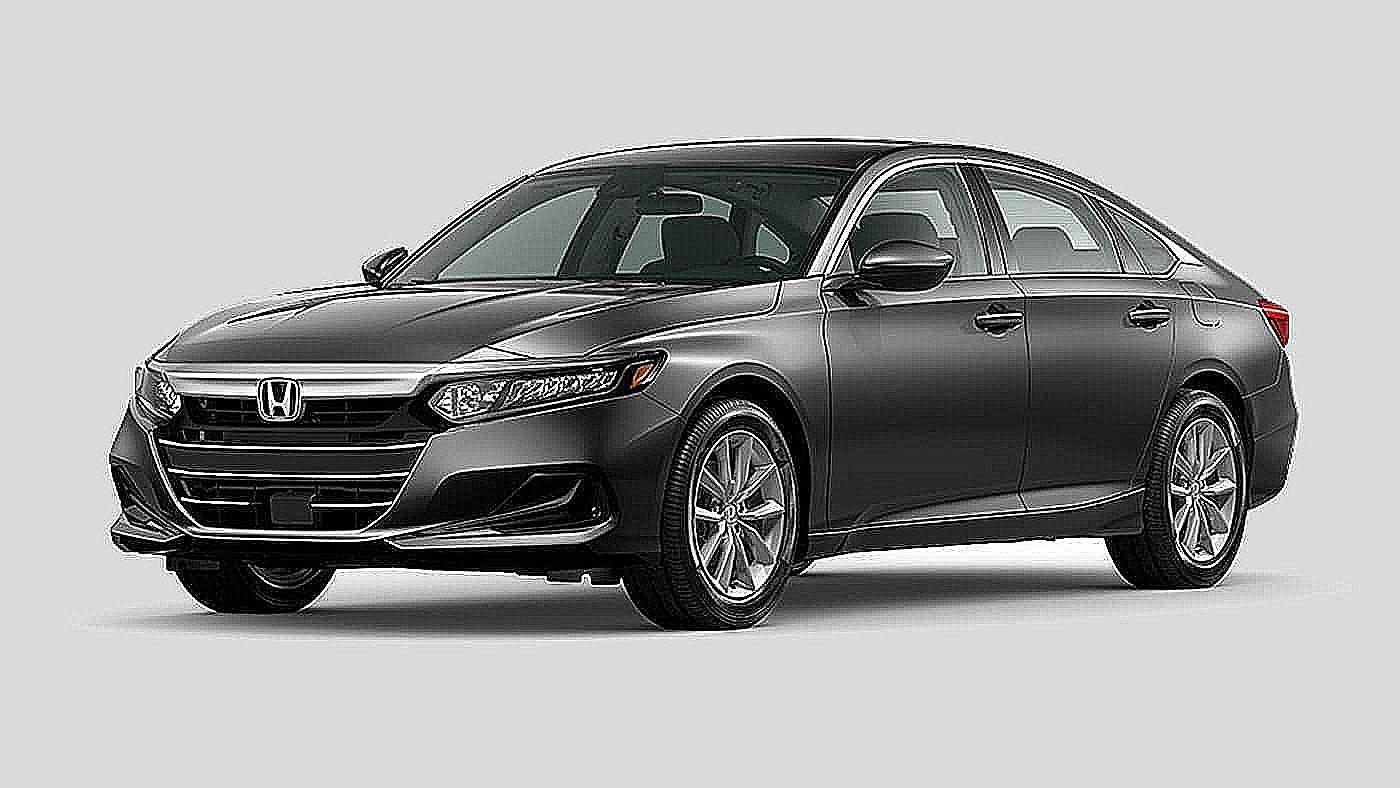Car hood: (142, 270, 786, 372)
Fender - -F-L-: (587, 268, 830, 557)
Fender - -R-L-: (1135, 259, 1283, 532)
Front bumper: (95, 399, 683, 577)
Headlight - -L-: (409, 347, 678, 427)
Headlight - -R-: (120, 350, 192, 432)
Passenger-s door - -F-L-: (826, 150, 1029, 535)
Passenger-s door - -R-L-: (1026, 157, 1184, 534)
Rear bumper: (1240, 363, 1310, 519)
Rear light - -L-: (1249, 285, 1304, 356)
Side bumper - -L-: (790, 474, 1155, 565)
Side mirror - -L-: (815, 230, 961, 310)
Side mirror - -R-: (352, 235, 420, 295)
